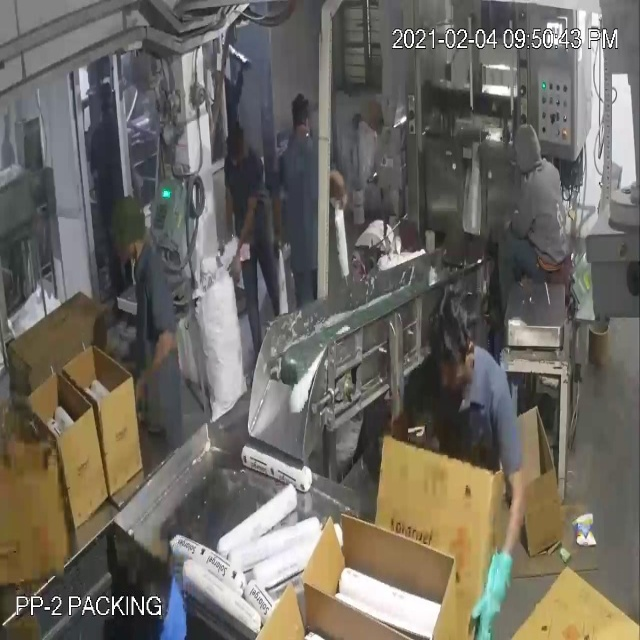Guantes: (470, 526, 513, 640)
Sin_guantes: (119, 312, 178, 399), (233, 198, 262, 285), (219, 176, 236, 247)
